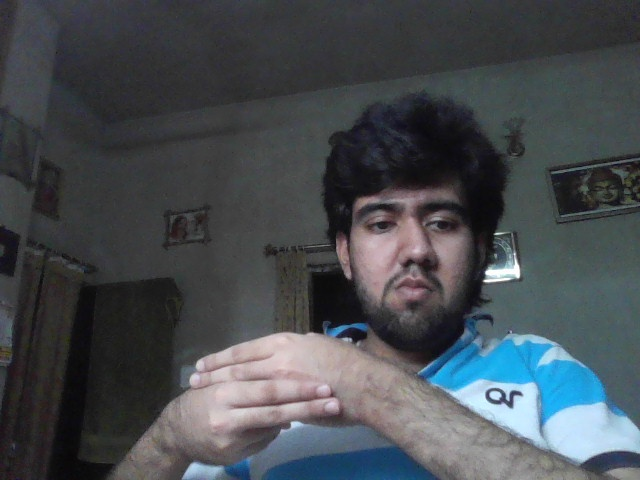Name: (175, 330, 360, 467)
